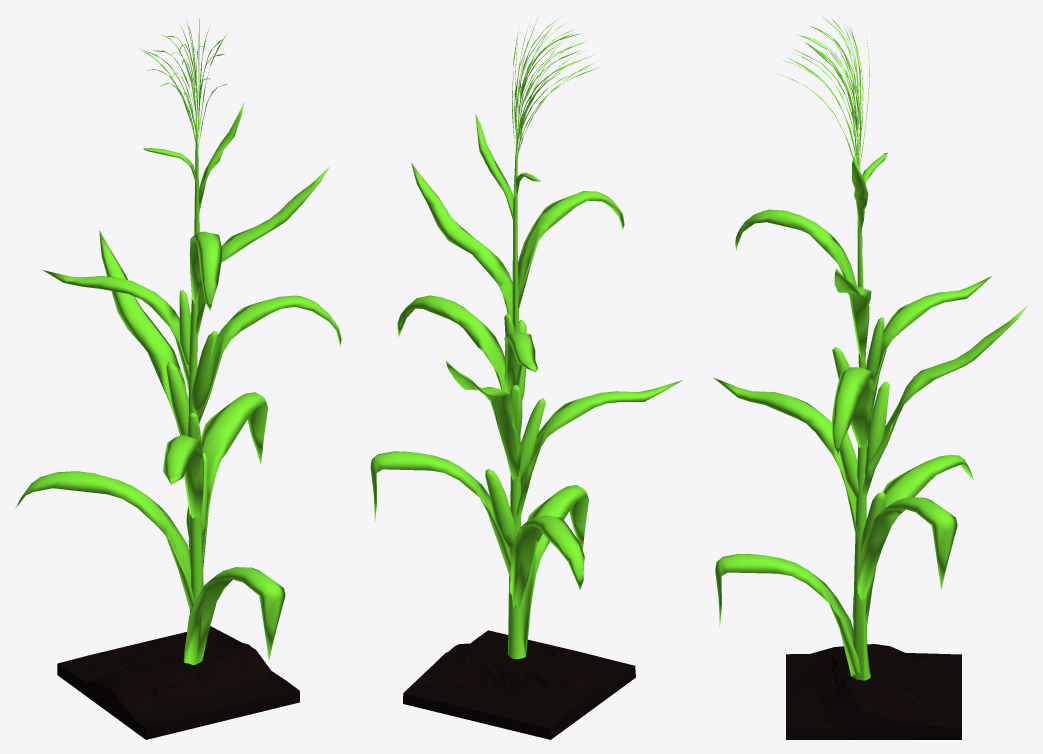
File: bedeng_jagung_1_watered.obj
The picture shows the model from 3 angles, left to right: view 1: azimuth 30°, elevation 25°; view 2: azimuth 150°, elevation 25°; view 3: azimuth 270°, elevation 25°; orthographic projection. The views are drawn at different scales.
Visible parts, largest first — view 1: Tanaman_Jagung.001, PP_Meadow_Path_05_Scene.003; view 2: Tanaman_Jagung.001, PP_Meadow_Path_05_Scene.003; view 3: Tanaman_Jagung.001, PP_Meadow_Path_05_Scene.003.
Part boxes in pixels (bbox=[...]): Tanaman_Jagung.001: bbox=[15, 19, 341, 665]; PP_Meadow_Path_05_Scene.003: bbox=[57, 626, 299, 739]; Tanaman_Jagung.001: bbox=[370, 17, 682, 659]; PP_Meadow_Path_05_Scene.003: bbox=[403, 630, 635, 739]; Tanaman_Jagung.001: bbox=[713, 15, 1027, 680]; PP_Meadow_Path_05_Scene.003: bbox=[786, 644, 961, 739].
Bounding box in the file's own units: 1.68 × 4.26 × 1.8.
